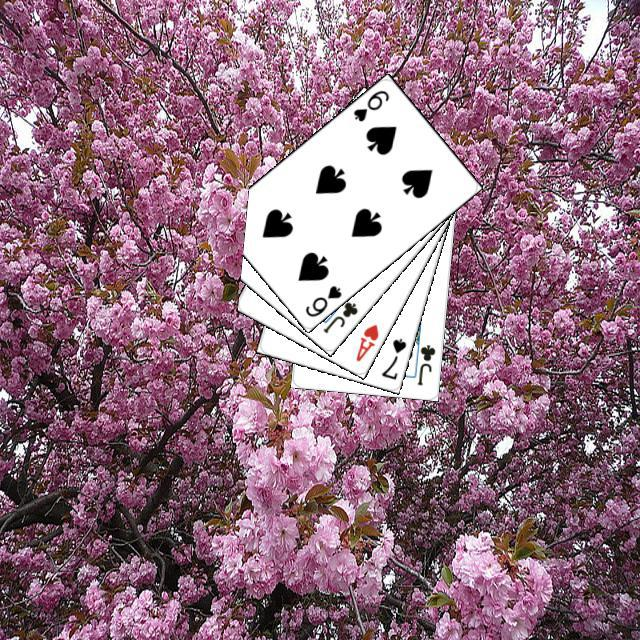6s: (300, 280, 344, 319), (348, 85, 391, 124)
7s: (377, 333, 408, 381)
Ah: (351, 319, 380, 363)
Jc: (318, 297, 359, 335), (412, 340, 437, 387)
